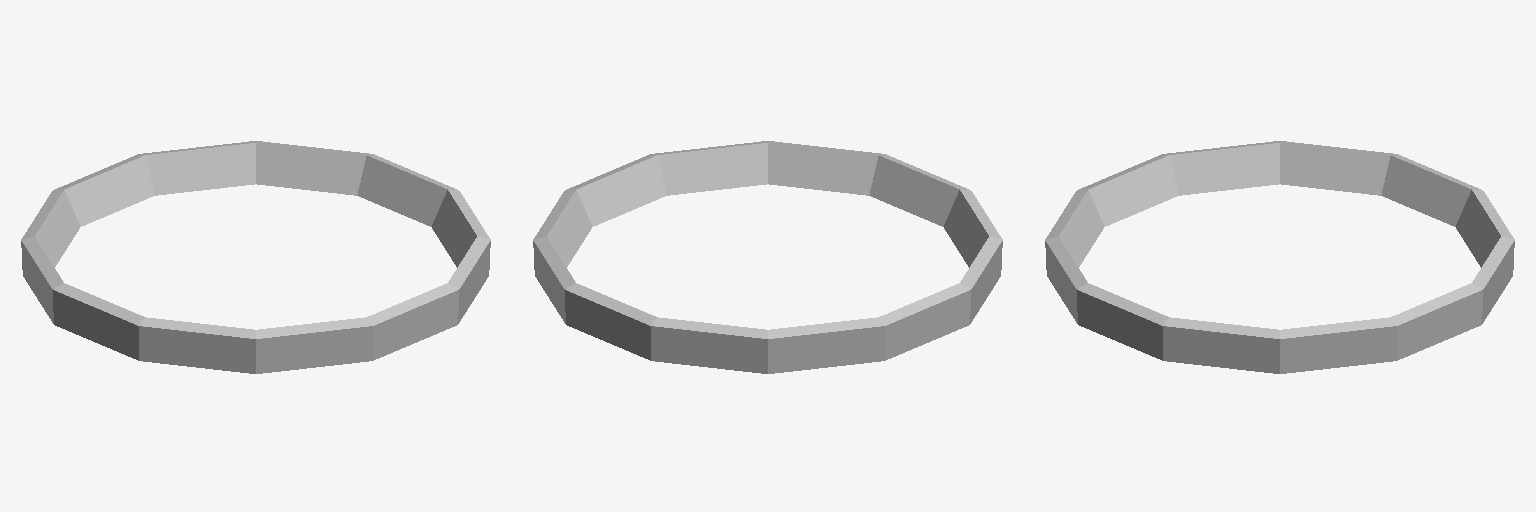
File: xmas_antenna_side.obj
The picture shows the model from 3 angles: view 1: azimuth 30°, elevation 25°; view 2: azimuth 150°, elevation 25°; view 3: azimuth 270°, elevation 25°; orthographic projection.
Parts seen in each view (by area): view 1: Cylinder.002; view 2: Cylinder.002; view 3: Cylinder.002.
Part boxes in pixels (x1,y1,x2,y2): Cylinder.002: (21, 141, 490, 373); Cylinder.002: (533, 141, 1002, 373); Cylinder.002: (1045, 141, 1514, 373).
Size of the model in its own units: 3.96 by 0.3675 by 3.96.